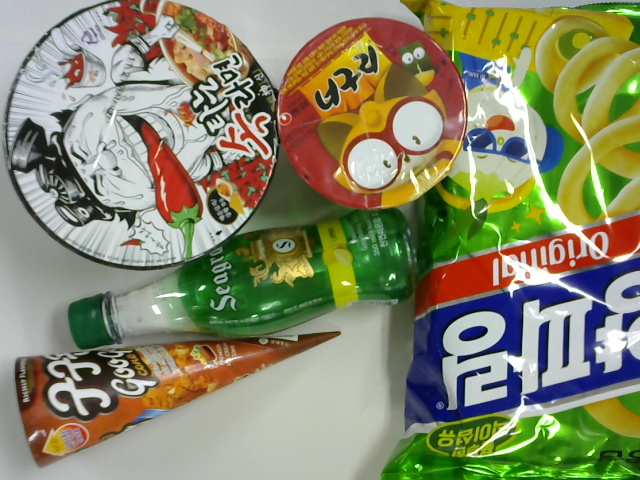GooGoo_Cone_CVS: (13, 334, 340, 469)
HeJangsock: (1, 4, 276, 269)
Oninon_Ring: (380, 1, 640, 480)
Raccoon: (275, 15, 469, 209)
Seagram_Lemon_Carbonated_Water: (67, 199, 418, 352)
